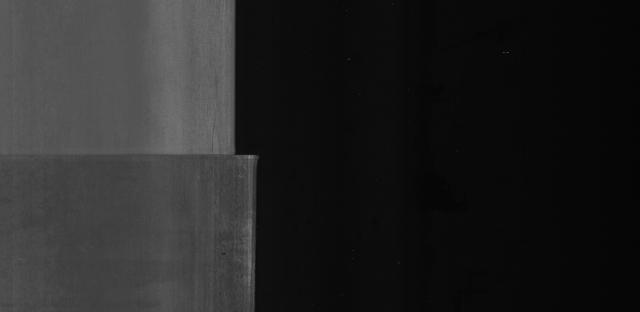welding_line: (0, 141, 266, 167)
